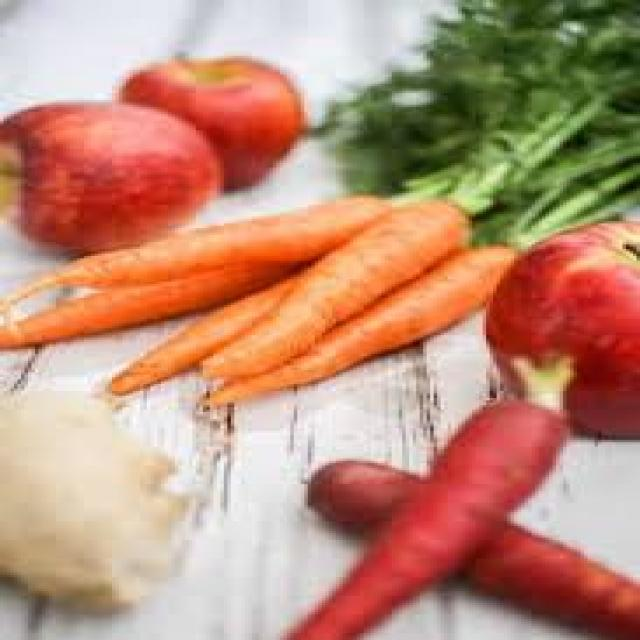organic waste: (276, 344, 567, 638), (312, 0, 636, 240), (298, 456, 636, 638), (192, 240, 521, 402), (196, 198, 465, 372), (0, 388, 196, 608), (7, 193, 385, 305), (482, 219, 636, 435), (0, 98, 210, 249), (0, 262, 304, 344), (119, 47, 297, 186), (102, 272, 290, 393)
